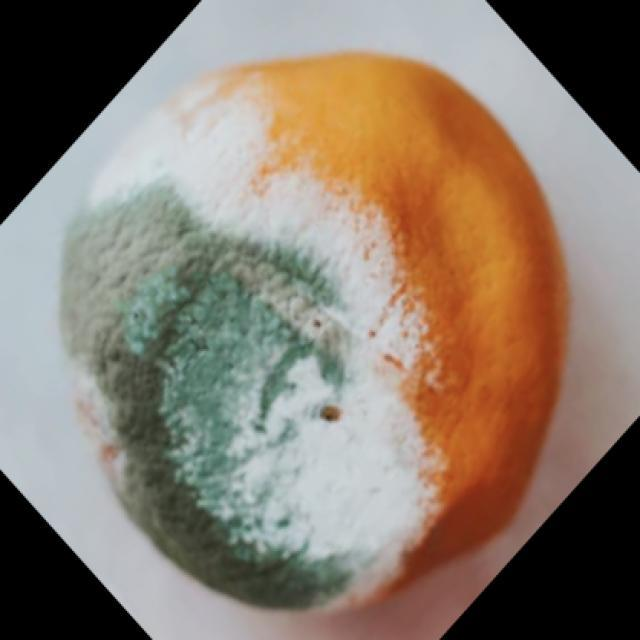sangat-busuk: (62, 54, 565, 609)
